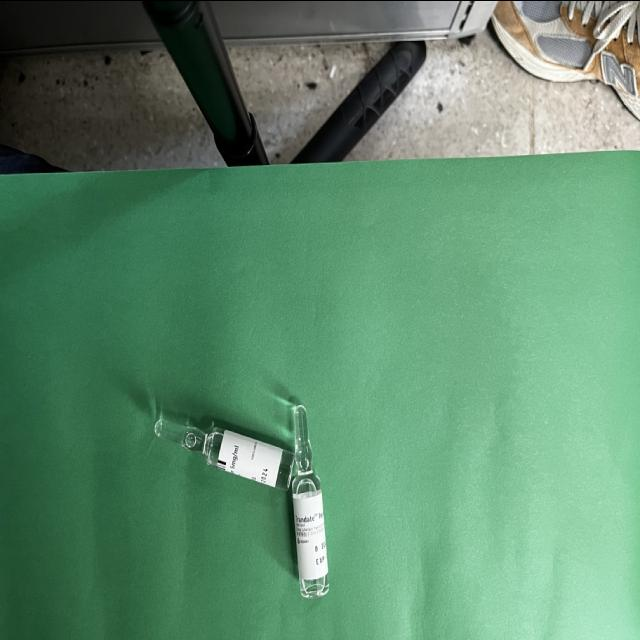Ampoules: (154, 419, 294, 489), (291, 403, 329, 597)
